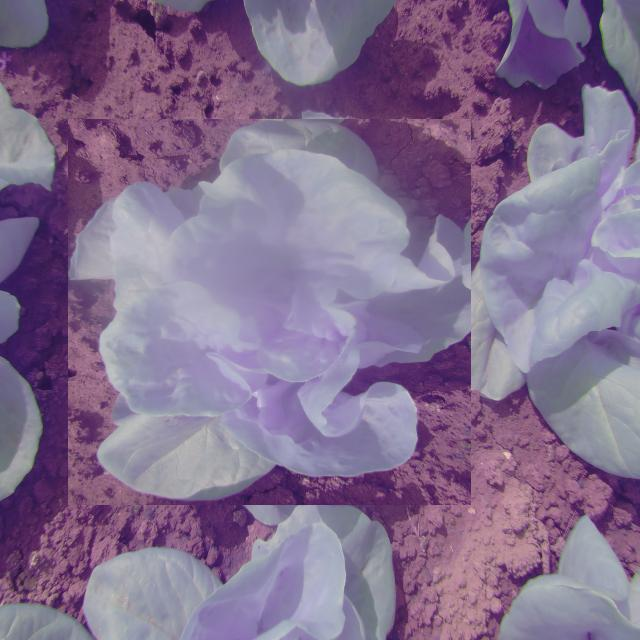vege: (72, 114, 467, 509)
